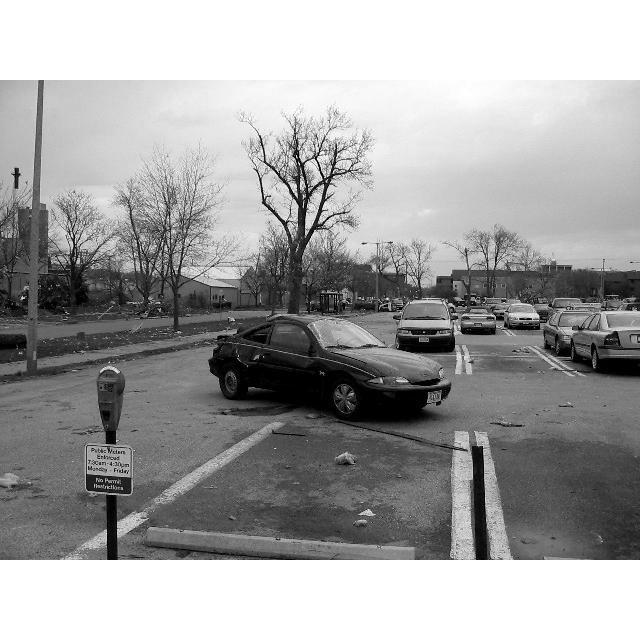doorouter-dent: (265, 347, 323, 391)
quaterpanel-dent: (213, 334, 263, 375)
